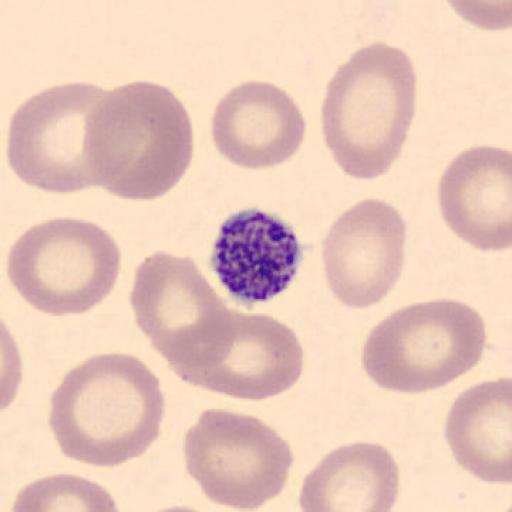Platelet: (207, 206, 308, 307)
RBC: (319, 41, 418, 185), (47, 350, 166, 469), (128, 250, 236, 380), (166, 306, 306, 402), (87, 78, 195, 202), (6, 79, 116, 196), (361, 296, 488, 395), (6, 214, 122, 319), (182, 406, 296, 511), (320, 197, 408, 311), (209, 79, 307, 172), (436, 142, 512, 253), (442, 375, 512, 485), (297, 438, 400, 512), (7, 469, 122, 512), (0, 318, 24, 418), (442, 0, 512, 34), (135, 503, 236, 512)
